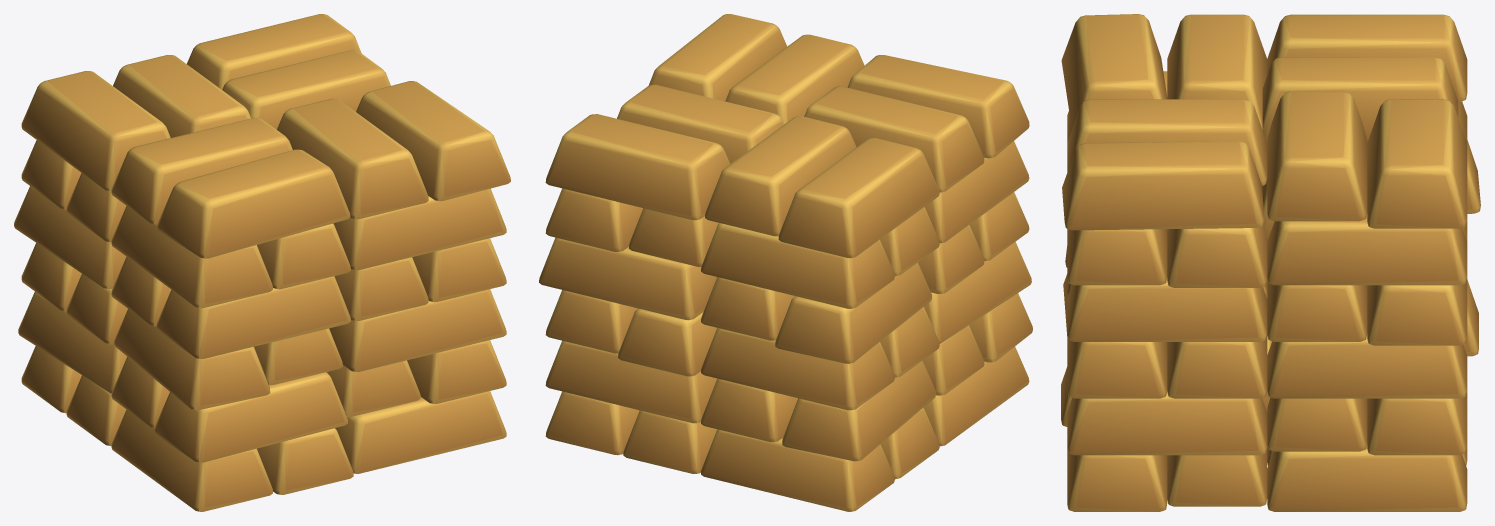
File: Gold_Bars_Stack_Large.glb
3 views of the same model, side by side, from view 1: azimuth 30°, elevation 25°; view 2: azimuth 150°, elevation 25°; view 3: azimuth 270°, elevation 25° (orthographic). The views are drawn at different scales.
Visible parts, largest first — view 1: Gold_Bars_Stack_Large; view 2: Gold_Bars_Stack_Large; view 3: Gold_Bars_Stack_Large.
Part boxes in pixels (x1,y1,x2,y2): Gold_Bars_Stack_Large: (14,14,510,511); Gold_Bars_Stack_Large: (539,14,1032,511); Gold_Bars_Stack_Large: (1061,14,1480,511).
Size of the model in its own units: 1.66 by 1.5 by 1.68.
Materials: 1 (1 with a texture image).
